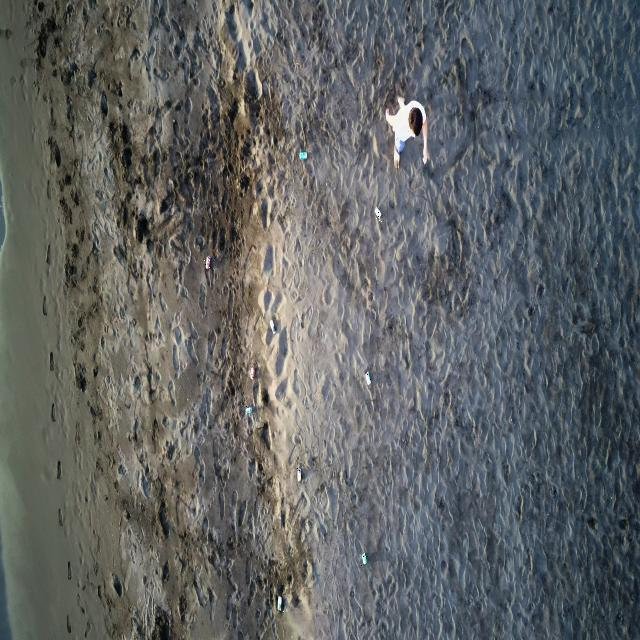tin-and-aluminum-cans: (374, 204, 382, 222), (276, 594, 284, 612), (298, 149, 309, 162), (268, 319, 276, 336), (364, 370, 372, 387), (204, 255, 212, 270), (249, 365, 256, 381), (361, 552, 368, 566), (245, 405, 253, 416), (297, 467, 302, 483)
